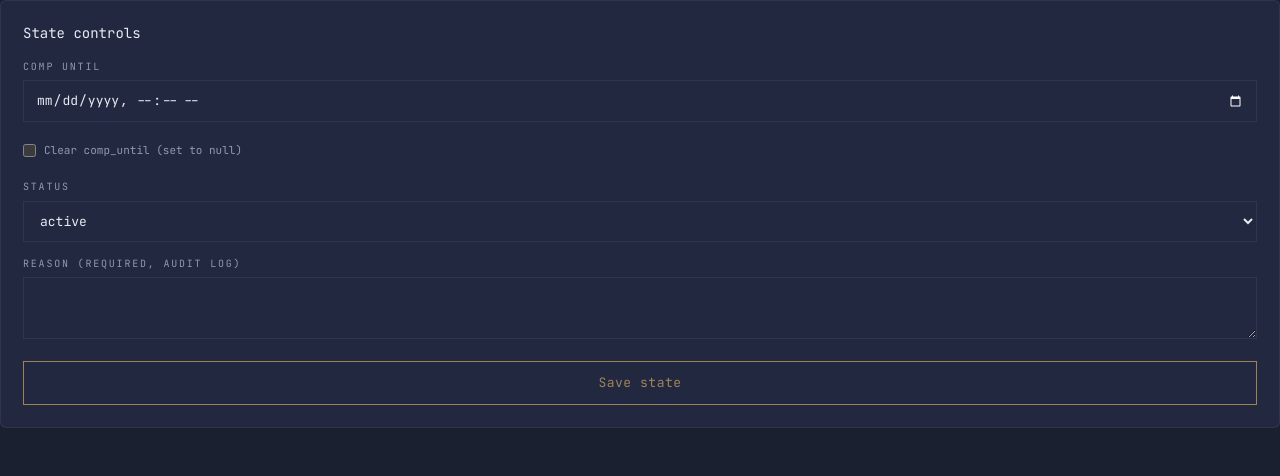
StateOverrideCard › surfaces backend errors
Select "expired" in the dropdown labelled "Status": point(640, 221) [23,201,1257,242]
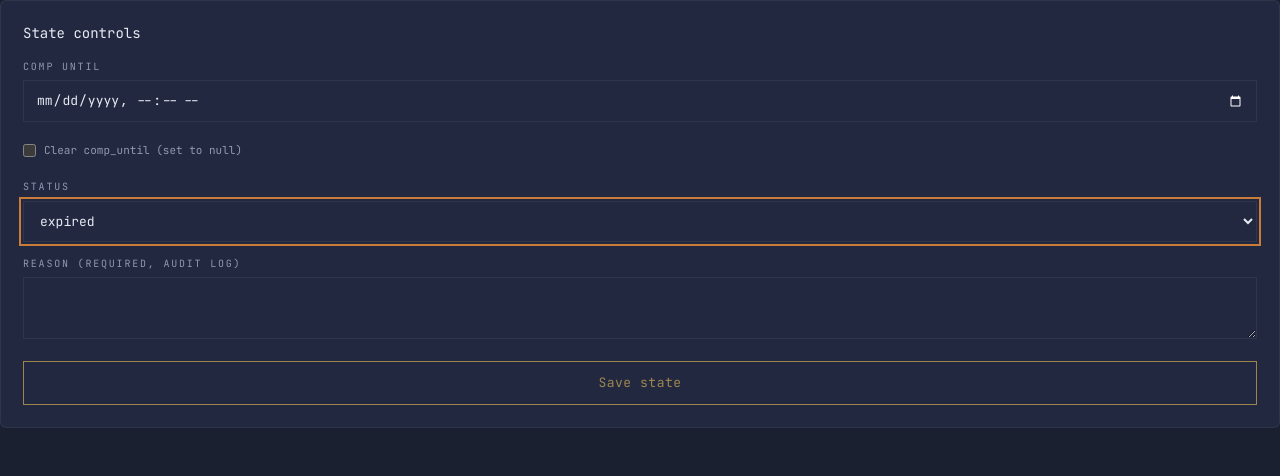
In the text box labelled "Reason (required, audit log)": point(640, 308) [23,277,1257,339], type "r"
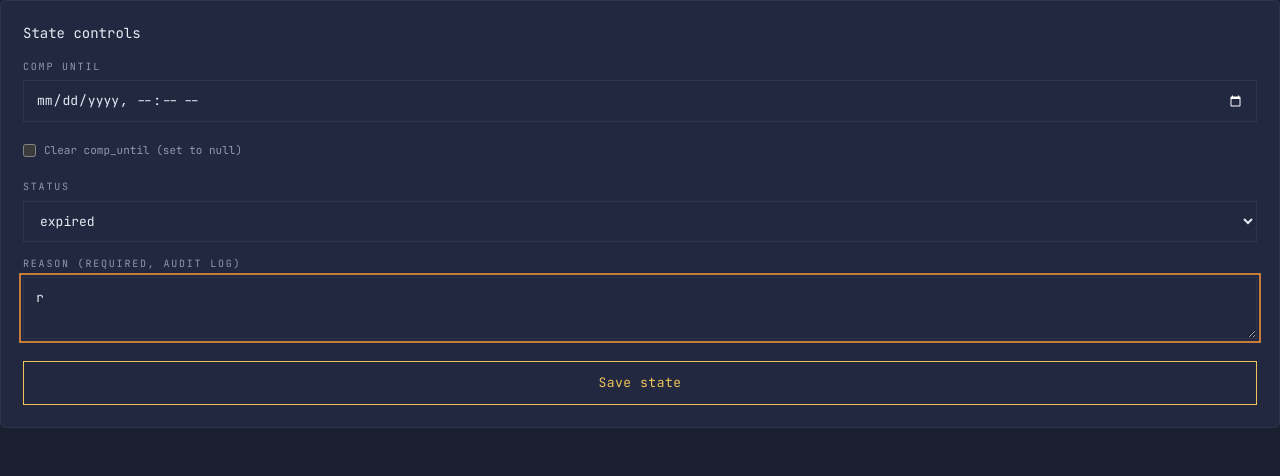
Click the button "Save state": point(640, 383) [23,361,1257,405]
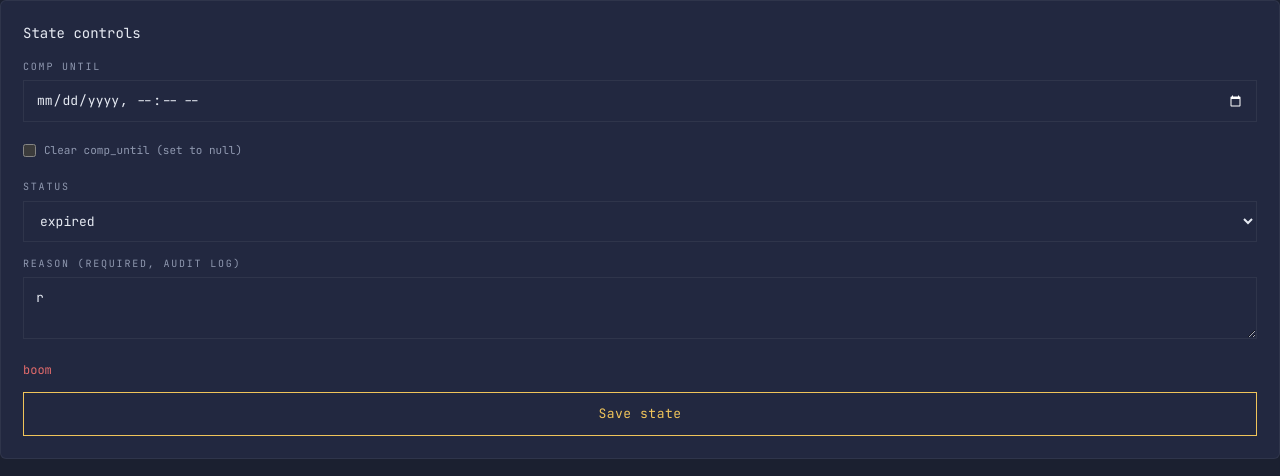
Expected: the message reads "boom", [23,362,52,378]
